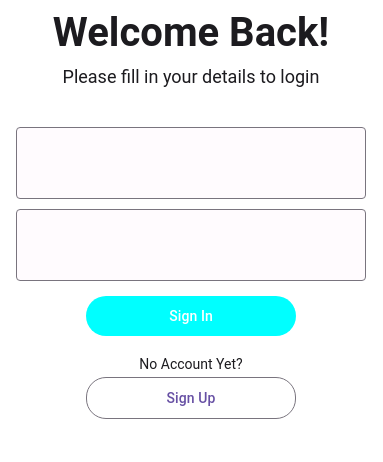
Test: shows an error message when email is empty
# Type in password but leave email input empty
Type "password123" into the password field with placeholder "Password".
click(191, 245); type("password123")  # box left=16, top=217, right=366, bottom=273
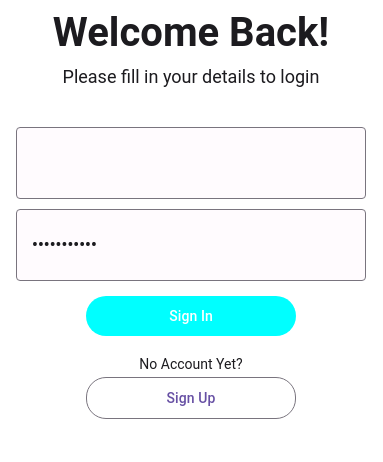
Click the button "Sign In".
click(191, 316)  # box left=86, top=296, right=296, bottom=336
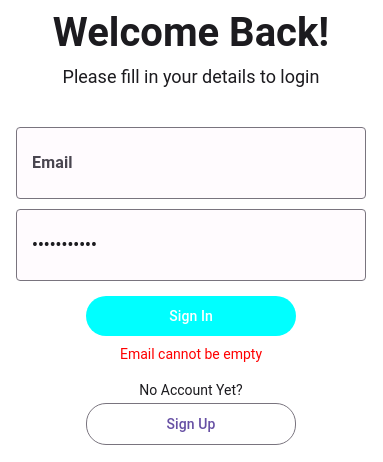
Expected: the text "Email cannot be empty" is shown, left=120, top=346, right=262, bottom=362
